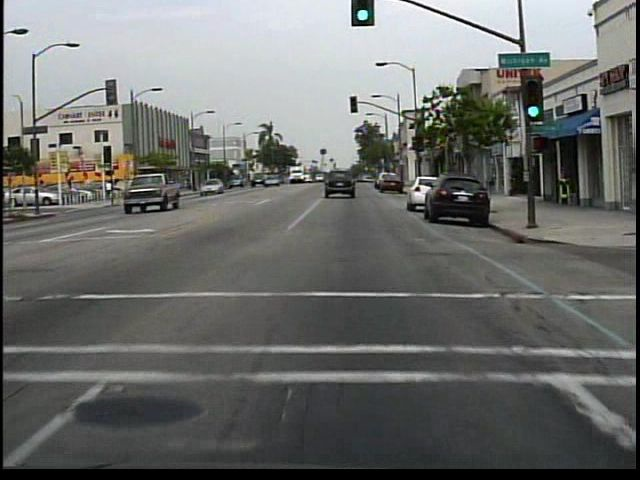person: (106, 179, 114, 204)
